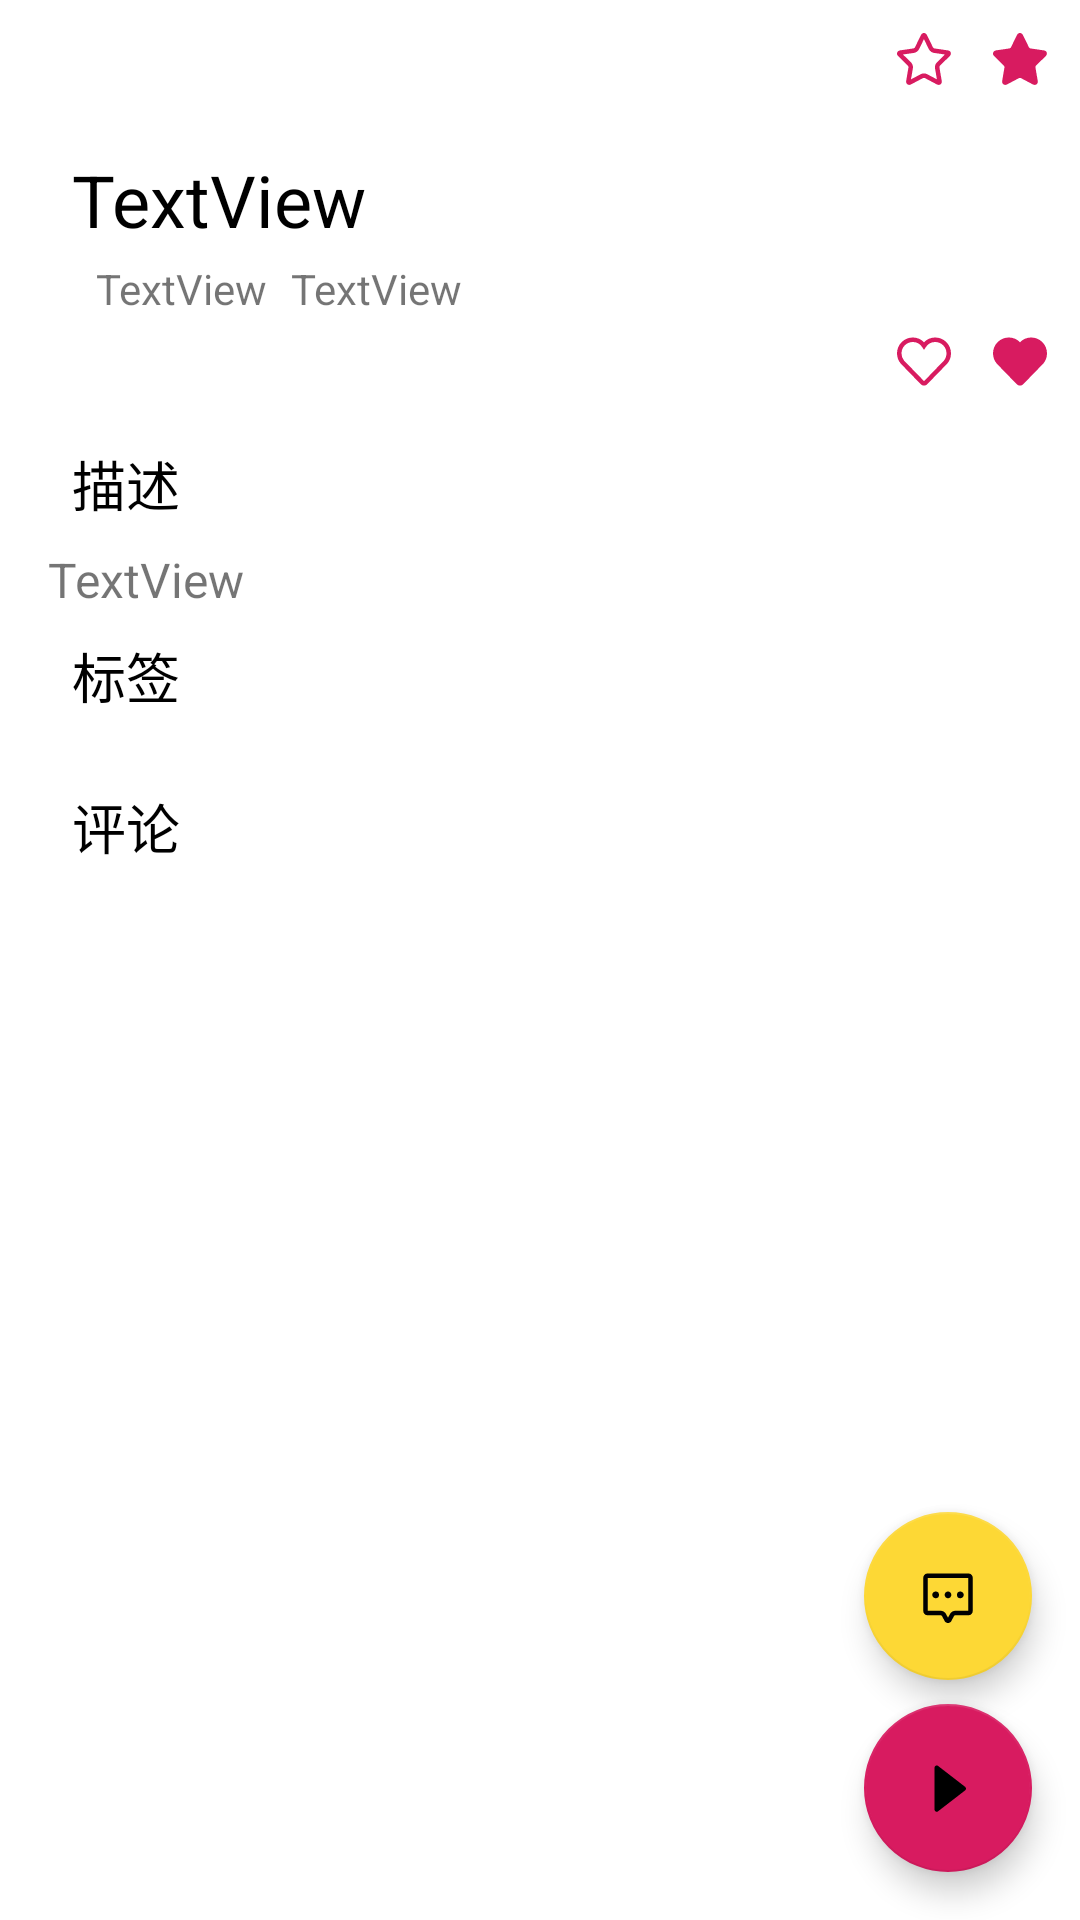

Screen size 1080 × 1920. Icon name, then its center in pixels as [x,y]:
collection: [924,59], [1020,59]
like: [924,361], [1020,361]
message: [948,1596]
play: [948,1788]
